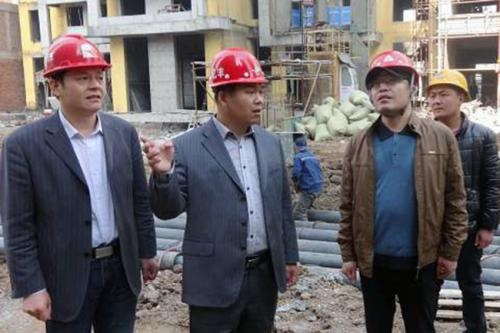red: (43, 32, 112, 114), (206, 48, 269, 128), (366, 49, 420, 119)
yellow: (426, 70, 469, 122)
